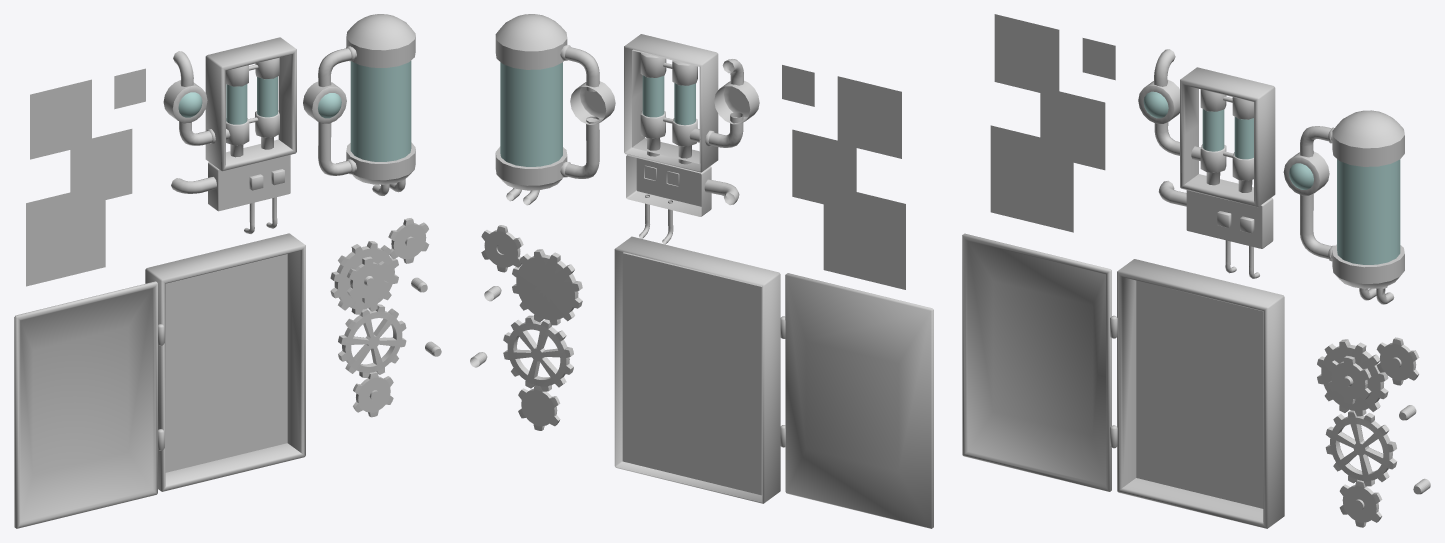
Rendered from DisarmBoxes.fbx.
The picture shows the model from 3 angles, left to right: view 1: azimuth 30°, elevation 25°; view 2: azimuth 150°, elevation 25°; view 3: azimuth 330°, elevation 25°; orthographic projection. The views are drawn at different scales.
Visible parts, largest first — view 1: Disarm_box_bottom, Disarm_box._top, Disarm_device01, Disarm_device02, disarm_Magic.003, disarm_Magic.001, disarm_Magic.002, Disarm_Gears.004, Disarm_Gears.001, Disarm_Gears.002, Disarm_Gears.003, Disarm_Gears.006 (+1 smaller); view 2: Disarm_box_bottom, Disarm_box._top, Disarm_device01, Disarm_device02, disarm_Magic.003, disarm_Magic.002, disarm_Magic.001, Disarm_Gears.001, Disarm_Gears.004, Disarm_Gears.003, Disarm_Gears.006, disarm_Magic; view 3: Disarm_box_bottom, Disarm_box._top, Disarm_device01, Disarm_device02, disarm_Magic.003, disarm_Magic.001, disarm_Magic.002, Disarm_Gears.004, Disarm_Gears.001, Disarm_Gears.002, Disarm_Gears.003, Disarm_Gears.006 (+1 smaller).
Part boxes in pixels (x1,y1,x2,y2): Disarm_box_bottom: (145,233,305,491); Disarm_box._top: (14,281,164,528); Disarm_device01: (163,37,296,233); Disarm_device02: (303,14,415,195); disarm_Magic.003: (26,184,105,286); disarm_Magic.001: (30,79,91,159); disarm_Magic.002: (70,129,132,199); Disarm_Gears.004: (338,304,406,377); Disarm_Gears.001: (330,241,398,314); Disarm_Gears.002: (347,256,388,303); Disarm_Gears.003: (388,218,429,263); Disarm_Gears.006: (353,371,393,417); Disarm_box_bottom: (614,236,780,503); Disarm_box._top: (780,273,933,528); Disarm_device01: (624,34,759,244); Disarm_device02: (495,14,615,205); disarm_Magic.003: (823,192,905,289); disarm_Magic.002: (792,129,856,212); disarm_Magic.001: (837,76,901,158); Disarm_Gears.001: (512,249,582,325); Disarm_Gears.004: (503,315,573,391); Disarm_Gears.003: (481,225,523,272); Disarm_Gears.006: (518,385,560,430); disarm_Magic: (782,65,814,106); Disarm_box_bottom: (1117,259,1284,528); Disarm_box._top: (962,233,1117,491); Disarm_device01: (1138,49,1275,278); Disarm_device02: (1283,110,1404,304); disarm_Magic.003: (990,125,1073,232); disarm_Magic.001: (994,14,1059,97); disarm_Magic.002: (1040,91,1105,170); Disarm_Gears.004: (1325,410,1396,486); Disarm_Gears.001: (1317,339,1388,416); Disarm_Gears.002: (1328,356,1371,404); Disarm_Gears.003: (1376,337,1419,385); Disarm_Gears.006: (1339,480,1382,527).
Size of the model in its own units: 0.7466 by 0.6956 by 0.1044.
